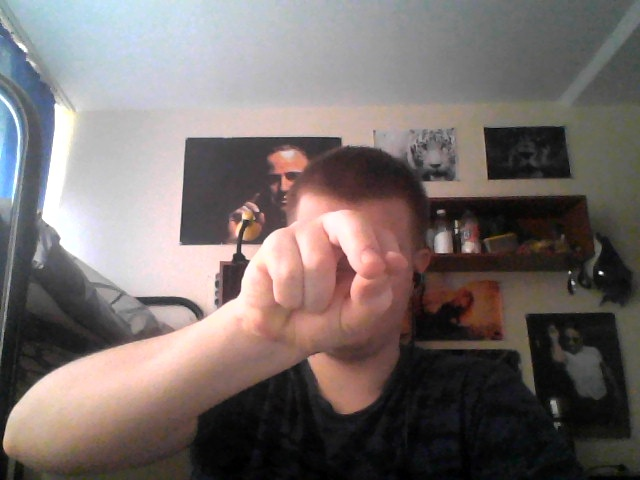no: (238, 206, 412, 360)
